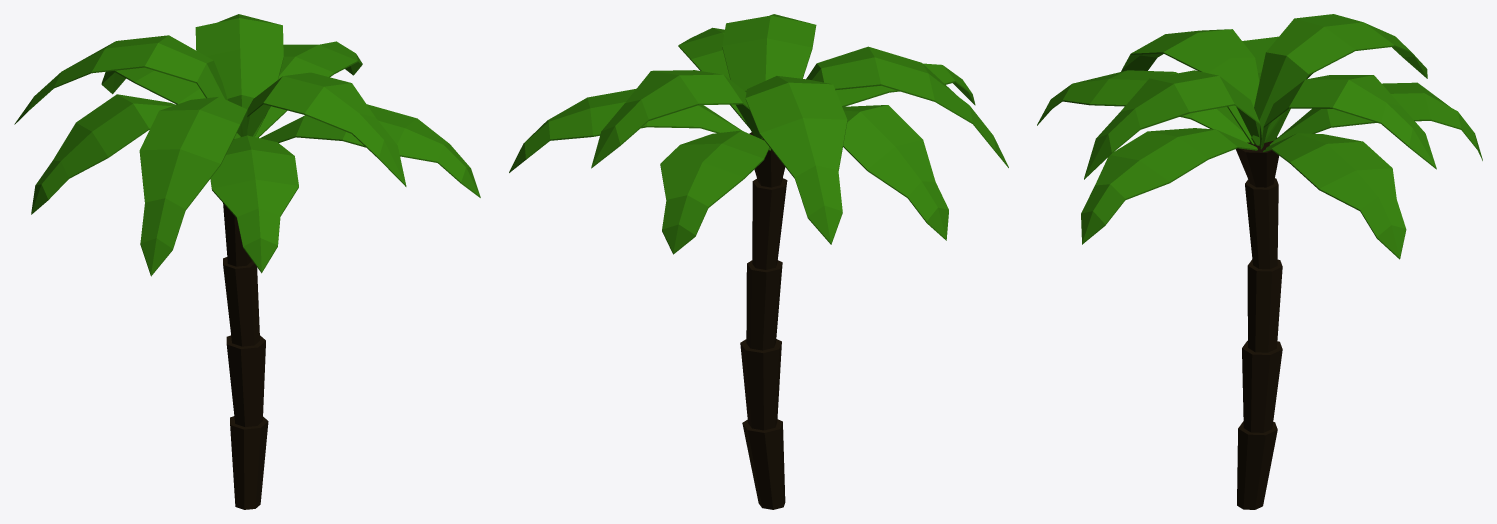
File: palm_tree.fbx
3 views of the same model, side by side, from view 1: azimuth 30°, elevation 25°; view 2: azimuth 150°, elevation 25°; view 3: azimuth 270°, elevation 25° (orthographic). The views are drawn at different scales.
Visible parts, largest first — view 1: Palm_Tree_M; view 2: Palm_Tree_M; view 3: Palm_Tree_M.
Boxes of the visible parts, x1,y1,x2,y2 form: Palm_Tree_M: (14, 14, 480, 509); Palm_Tree_M: (509, 14, 1008, 509); Palm_Tree_M: (1037, 14, 1482, 509).
Size of the model in its own units: 349 by 400 by 357.
